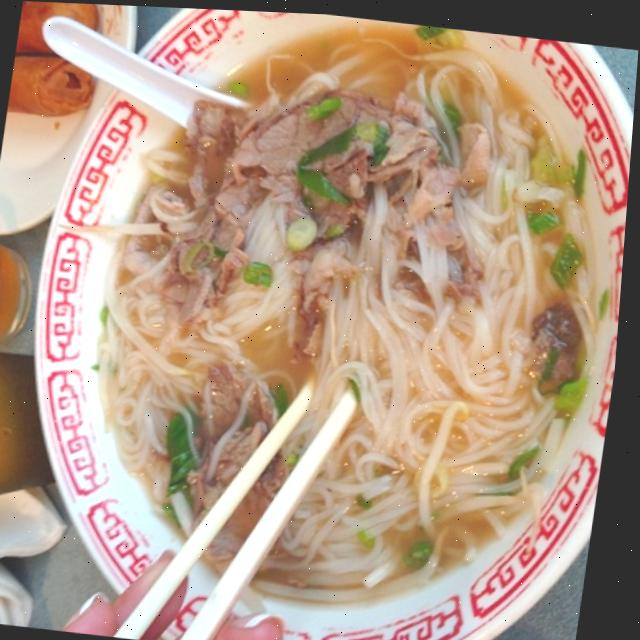面条主食: (12, 9, 626, 640)
